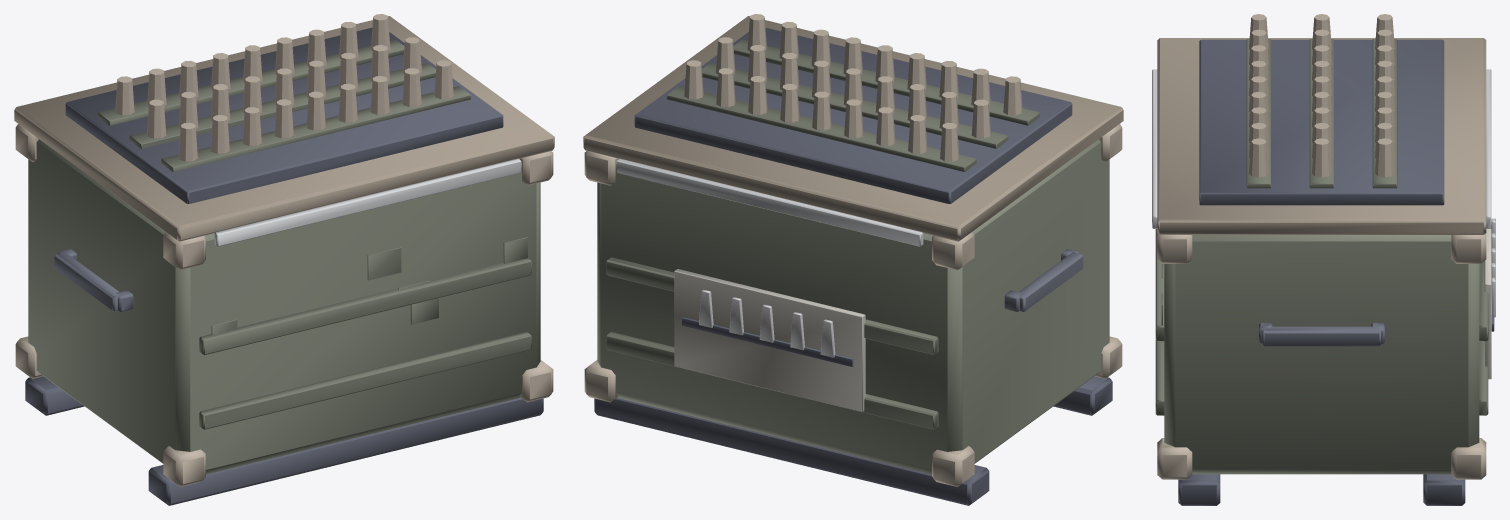
The model's file is supply_cache.glb.
3 views of the same model, side by side, from view 1: azimuth 30°, elevation 25°; view 2: azimuth 150°, elevation 25°; view 3: azimuth 270°, elevation 25° (orthographic).
Parts seen in each view (by area): view 1: main, lamps; view 2: main, lamps, icon; view 3: main, lamps, icon.
Boxes of the visible parts, x1,y1,x2,y2 form: main: (14,14,554,505); lamps: (214,158,521,246); main: (583,14,1123,505); lamps: (616,158,923,246); icon: (699,289,835,357); main: (1155,14,1494,505); lamps: (1152,69,1491,228); icon: (1491,218,1495,317).
Bounding box in the file's own units: 1.32 × 1.06 × 0.982.
